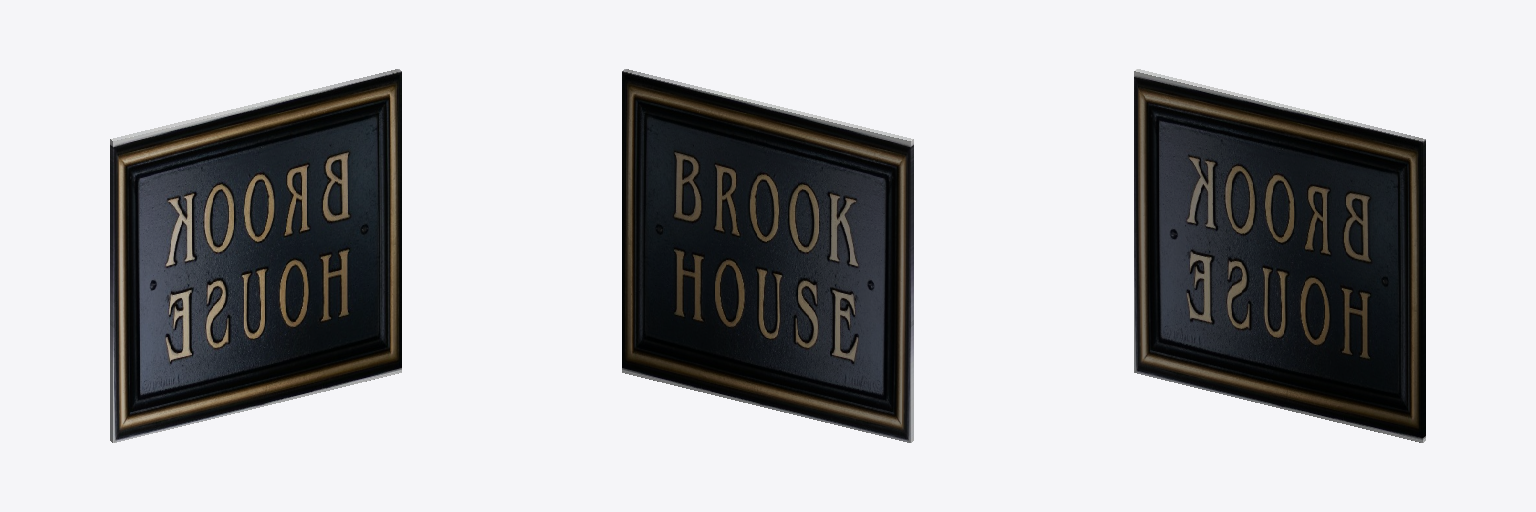
The picture shows the model from 3 angles: view 1: azimuth 30°, elevation 25°; view 2: azimuth 150°, elevation 25°; view 3: azimuth 330°, elevation 25°; orthographic projection.
Visible parts, largest first — view 1: sign; view 2: sign; view 3: sign.
Boxes of the visible parts, x1,y1,x2,y2 form: sign: [110, 69, 401, 442]; sign: [622, 69, 913, 442]; sign: [1134, 69, 1425, 442].
Size of the model in its own units: 5.73 by 5.73 by 0.11.
1 materials, 1 textured.